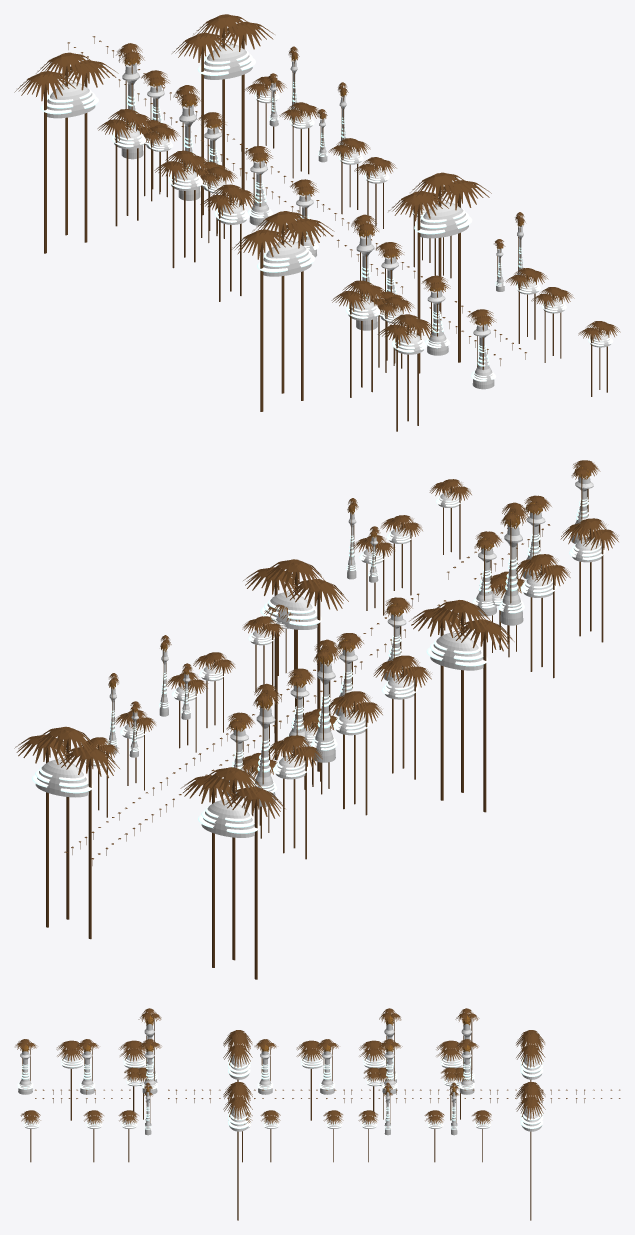
The model's file is Roadlux.glb.
3 renders of one model, top to bottom at view 1: azimuth 30°, elevation 25°; view 2: azimuth 150°, elevation 25°; view 3: azimuth 270°, elevation 25°, orthographic. The views are drawn at different scales.
Visible parts, largest first — view 1: Sphere42, Sphere41, Sphere25, Sphere26, Plane228, Plane77, Plane231, Plane74, Plane229, Plane232, Plane75, Plane78 (+12 smaller); view 2: Sphere41, Sphere25, Sphere26, Sphere28, Sphere3, Sphere42, Plane231, Plane228, Plane77, Plane74, Sphere18, Plane78 (+10 smaller); view 3: Plane230, Plane76, Plane227, Plane231, Sphere16, Plane77, Plane228, Plane74, Plane73, Sphere22, Sphere23, Sphere39 (+2 smaller).
Boxes of the visible parts, left/top/right/bottom form: Sphere42: left=420, top=202, right=468, bottom=238; Sphere41: left=263, top=241, right=311, bottom=276; Sphere25: left=47, top=82, right=95, bottom=118; Sphere26: left=204, top=44, right=252, bottom=79; Plane228: left=252, top=211, right=312, bottom=241; Plane77: left=193, top=14, right=253, bottom=44; Plane231: left=410, top=172, right=470, bottom=202; Plane74: left=36, top=52, right=96, bottom=82; Plane229: left=231, top=229, right=292, bottom=259; Plane232: left=388, top=191, right=449, bottom=221; Plane75: left=14, top=71, right=76, bottom=101; Plane78: left=172, top=32, right=232, bottom=62; Sphere41: left=430, top=632, right=483, bottom=670; Sphere25: left=201, top=800, right=254, bottom=837; Sphere26: left=35, top=759, right=88, bottom=797; Sphere28: left=500, top=525, right=523, bottom=625; Sphere3: left=313, top=661, right=335, bottom=762; Sphere42: left=265, top=592, right=317, bottom=629; Plane231: left=265, top=559, right=325, bottom=591; Plane228: left=432, top=600, right=491, bottom=631; Plane77: left=37, top=726, right=97, bottom=758; Plane74: left=203, top=767, right=262, bottom=799; Sphere18: left=254, top=706, right=275, bottom=806; Plane78: left=58, top=746, right=119, bottom=778; Plane230: left=223, top=1096, right=252, bottom=1119; Plane76: left=516, top=1096, right=545, bottom=1119; Plane227: left=223, top=1044, right=252, bottom=1067; Plane231: left=223, top=1082, right=252, bottom=1102; Sphere16: left=459, top=1050, right=474, bottom=1094; Plane77: left=515, top=1082, right=545, bottom=1102; Plane228: left=223, top=1030, right=252, bottom=1050; Plane74: left=516, top=1030, right=544, bottom=1050; Plane73: left=516, top=1044, right=545, bottom=1067; Sphere22: left=320, top=1050, right=334, bottom=1094; Sphere23: left=258, top=1050, right=272, bottom=1094; Sphere39: left=18, top=1050, right=32, bottom=1094.
Bounding box in the file's own units: 22541 × 19818 × 68641.
